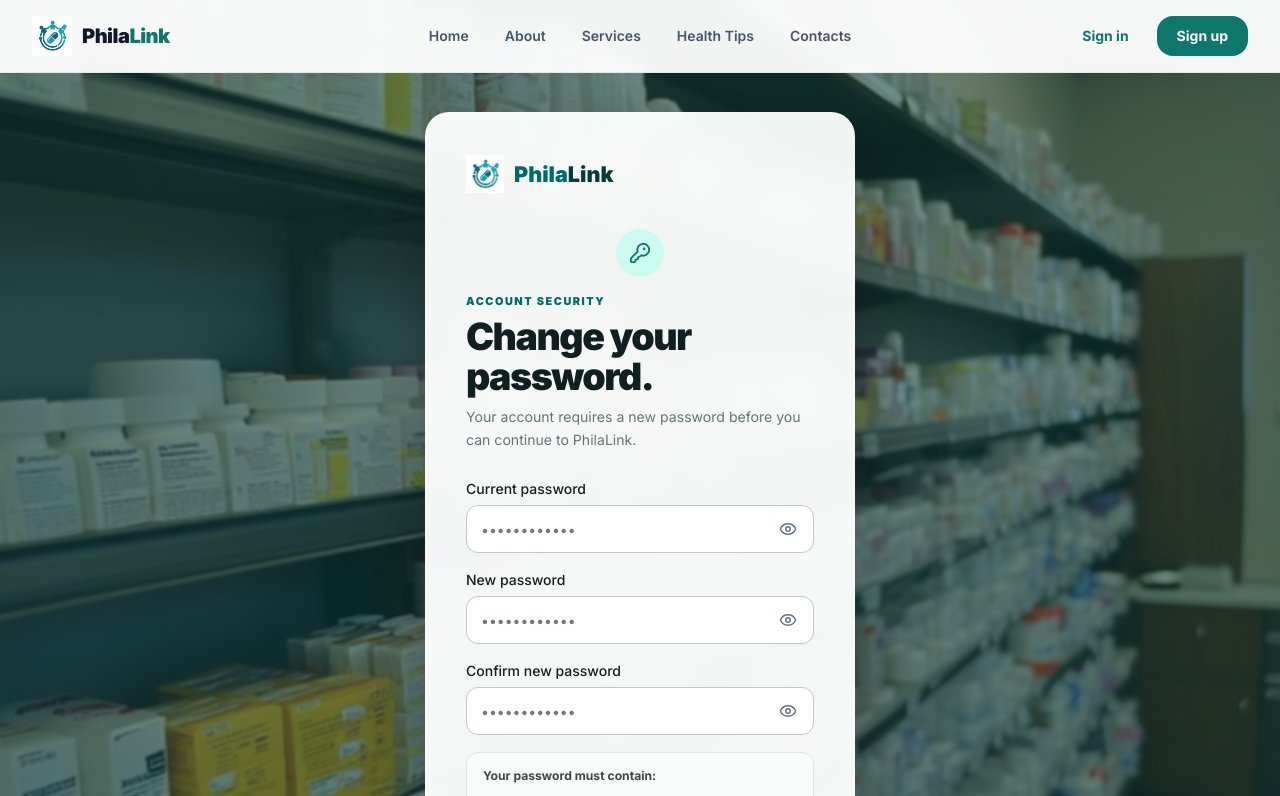
Test: ChangePasswordPage › rejects a password that does not meet the policy
Type "TemporaryPass!123" into the password field labelled "Current password" at coordinates (640, 529), box [466,505,814,553]
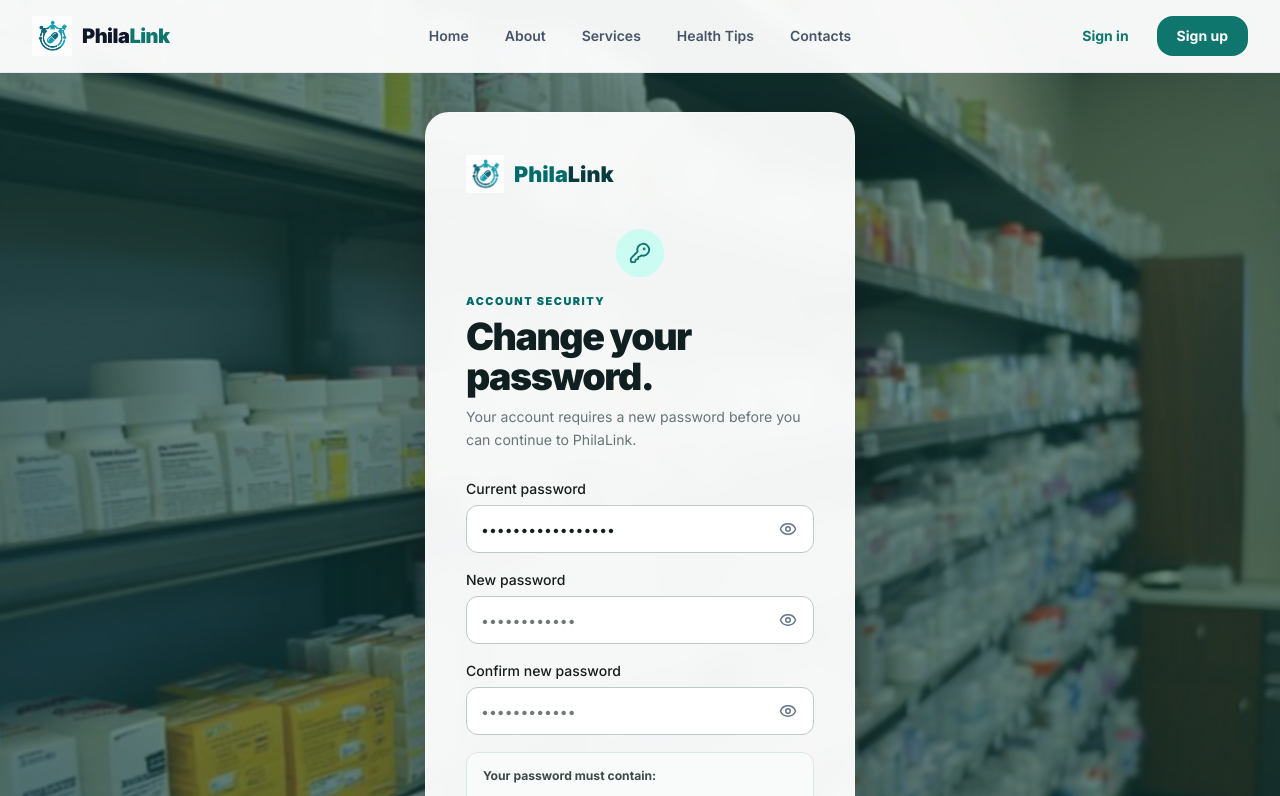
Type "weak" into the password field labelled "New password" at coordinates (640, 620), box [466,596,814,644]
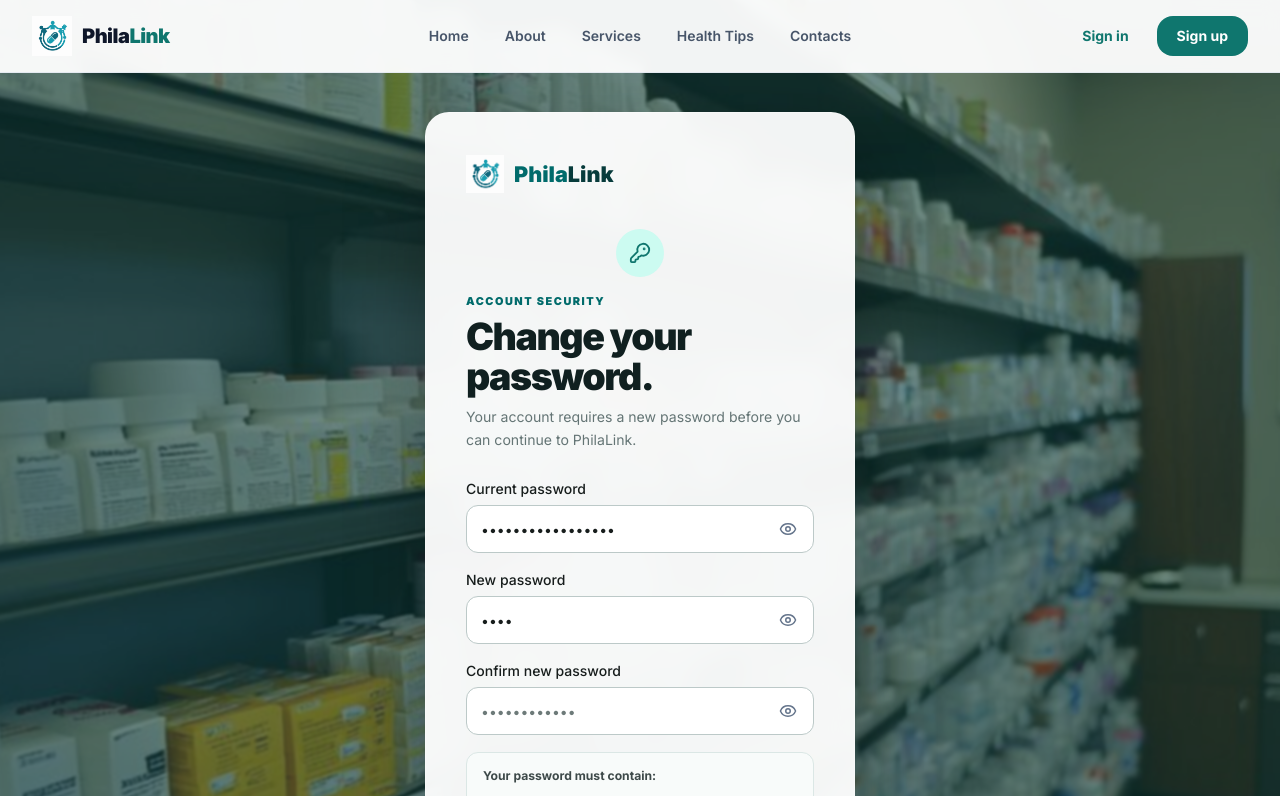
Type "weak" into the password field labelled "Confirm new password" at coordinates (640, 711), box [466,687,814,735]
(page scrolled)
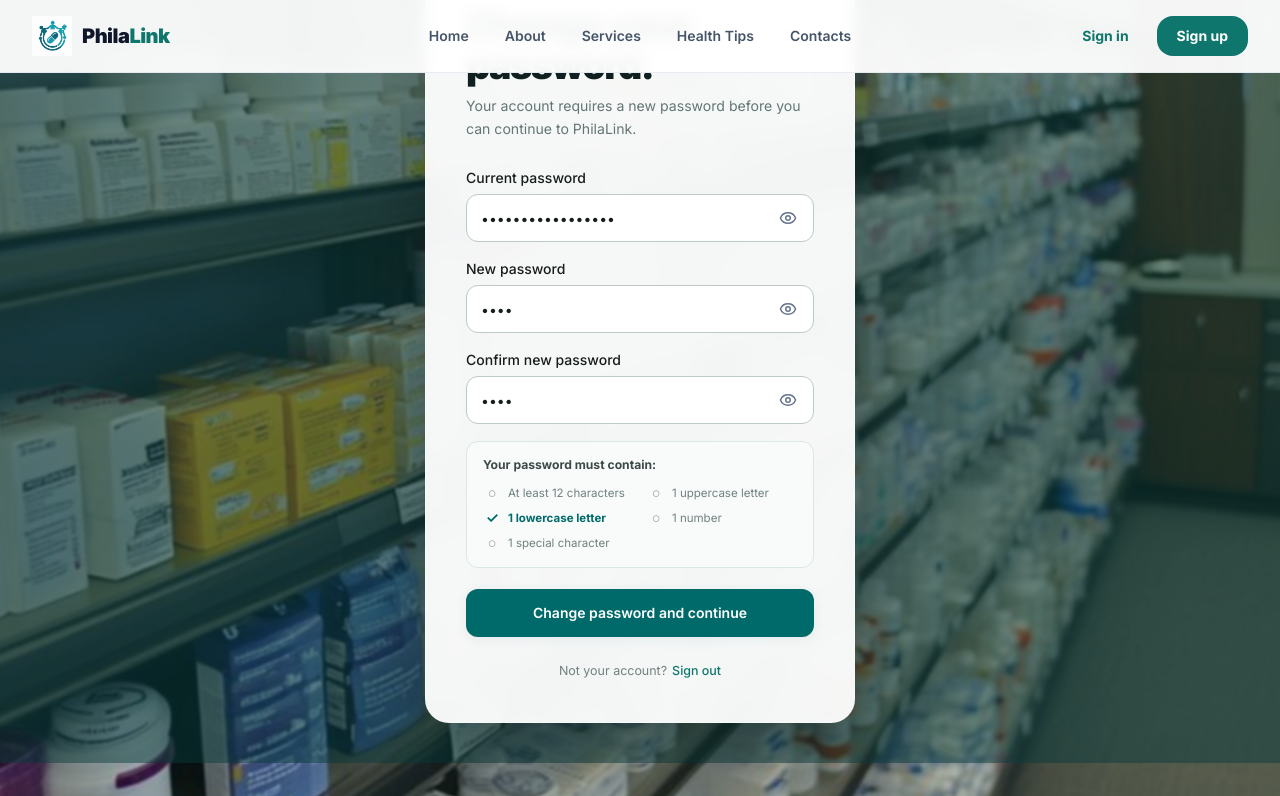
Click the button "Change password and continue" at coordinates (640, 612), box [466,588,814,636]
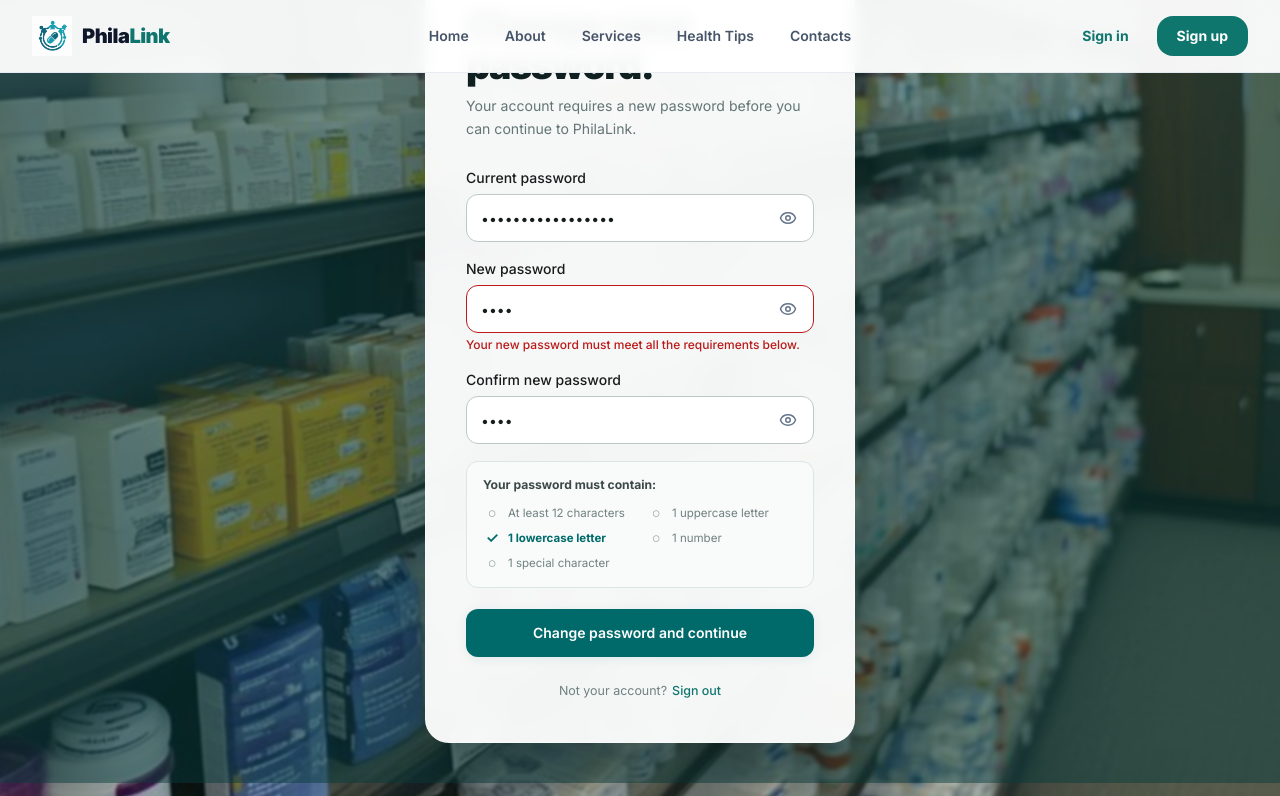
Now the text "Your new password must meet all the requirements below." is shown, box [466,337,814,353]
